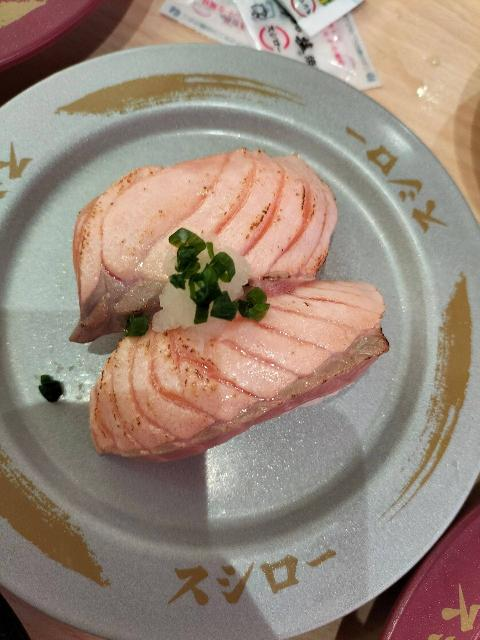janred: (422, 514, 480, 640), (6, 0, 104, 72)
janwhite: (17, 57, 472, 593)
